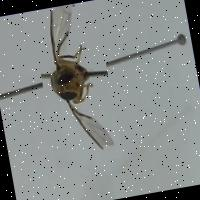Oriental-fruit-fly: (30, 3, 122, 168)
